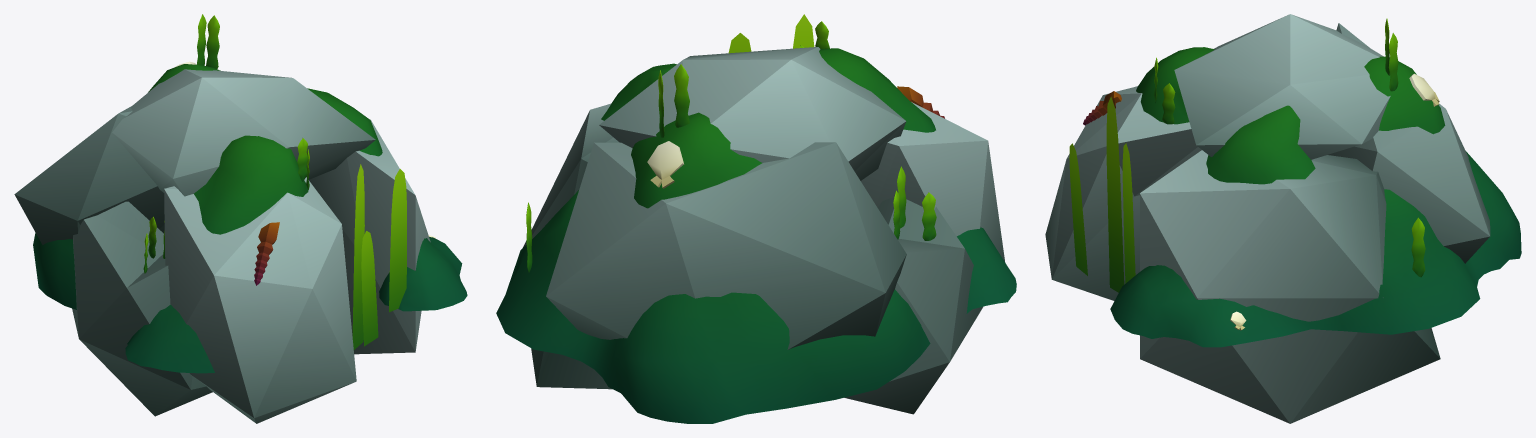
Rendered from House_rock_b.fbx.
3 renders of one model, left to right at view 1: azimuth 30°, elevation 25°; view 2: azimuth 150°, elevation 25°; view 3: azimuth 270°, elevation 25°, orthographic. The views are drawn at different scales.
Visible parts, largest first — view 1: Rock, Moss, door, Pointy_shell, Seaweed_5; view 2: Rock, Moss, Shell, door, Seaweed_6, Seaweed_1; view 3: Rock, Moss, door, Seaweed_7, Shell, Seaweed_5, Pointy_shell, Seaweed_4.
Part boxes in pixels (x1,y1,x2,y2): Rock: (14, 69, 430, 423); Moss: (33, 64, 467, 373); door: (352, 164, 406, 349); Pointy_shell: (254, 222, 279, 285); Seaweed_5: (206, 15, 219, 68); Rock: (523, 47, 1005, 414); Moss: (496, 48, 1016, 423); Shell: (647, 141, 683, 188); door: (728, 14, 814, 53); Seaweed_6: (674, 64, 689, 127); Seaweed_1: (922, 192, 936, 240); Rock: (1045, 14, 1490, 423); Moss: (1110, 47, 1521, 347); door: (1069, 96, 1135, 292); Seaweed_7: (1411, 217, 1425, 277); Shell: (1409, 73, 1439, 106); Seaweed_5: (1388, 33, 1398, 91); Pointy_shell: (1083, 91, 1121, 125); Seaweed_4: (1162, 83, 1175, 124).
Size of the model in its own units: 17.75 by 15.56 by 19.6.
1 material, 1 textured.
